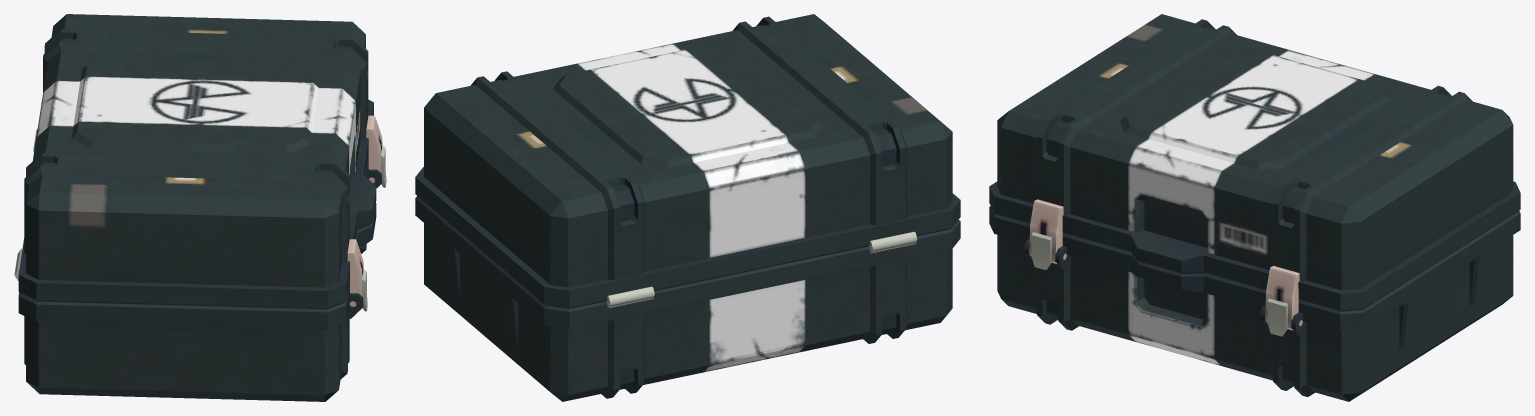
File: AirSupply (10).fbx
The picture shows the model from 3 angles, left to right: view 1: azimuth 30°, elevation 25°; view 2: azimuth 150°, elevation 25°; view 3: azimuth 270°, elevation 25°; orthographic projection. The views are drawn at different scales.
Parts seen in each view (by area): view 1: Box_upper, Crate, Lock_R_01 1, Lock_L_01 1; view 2: Box_upper, Crate; view 3: Box_upper, Crate, Lock_R_01 1, Lock_L_01 1, Lock_R_02 1, Lock_L_02 1.
Part boxes in pixels (<box>): Box_upper: <box>14,14,376,309</box>; Crate: <box>18,156,381,401</box>; Lock_R_01 1: <box>366,115,382,172</box>; Lock_L_01 1: <box>347,239,363,296</box>; Box_upper: <box>415,14,960,308</box>; Crate: <box>415,196,960,401</box>; Box_upper: <box>989,14,1520,311</box>; Crate: <box>989,206,1520,401</box>; Lock_R_01 1: <box>1265,266,1299,330</box>; Lock_L_01 1: <box>1029,199,1063,264</box>; Lock_R_02 1: <box>1267,298,1287,336</box>; Lock_L_02 1: <box>1031,232,1052,269</box>.
Size of the model in its own units: 1.49 by 0.682 by 1.61.
Materials: 2 (2 with a texture image).
